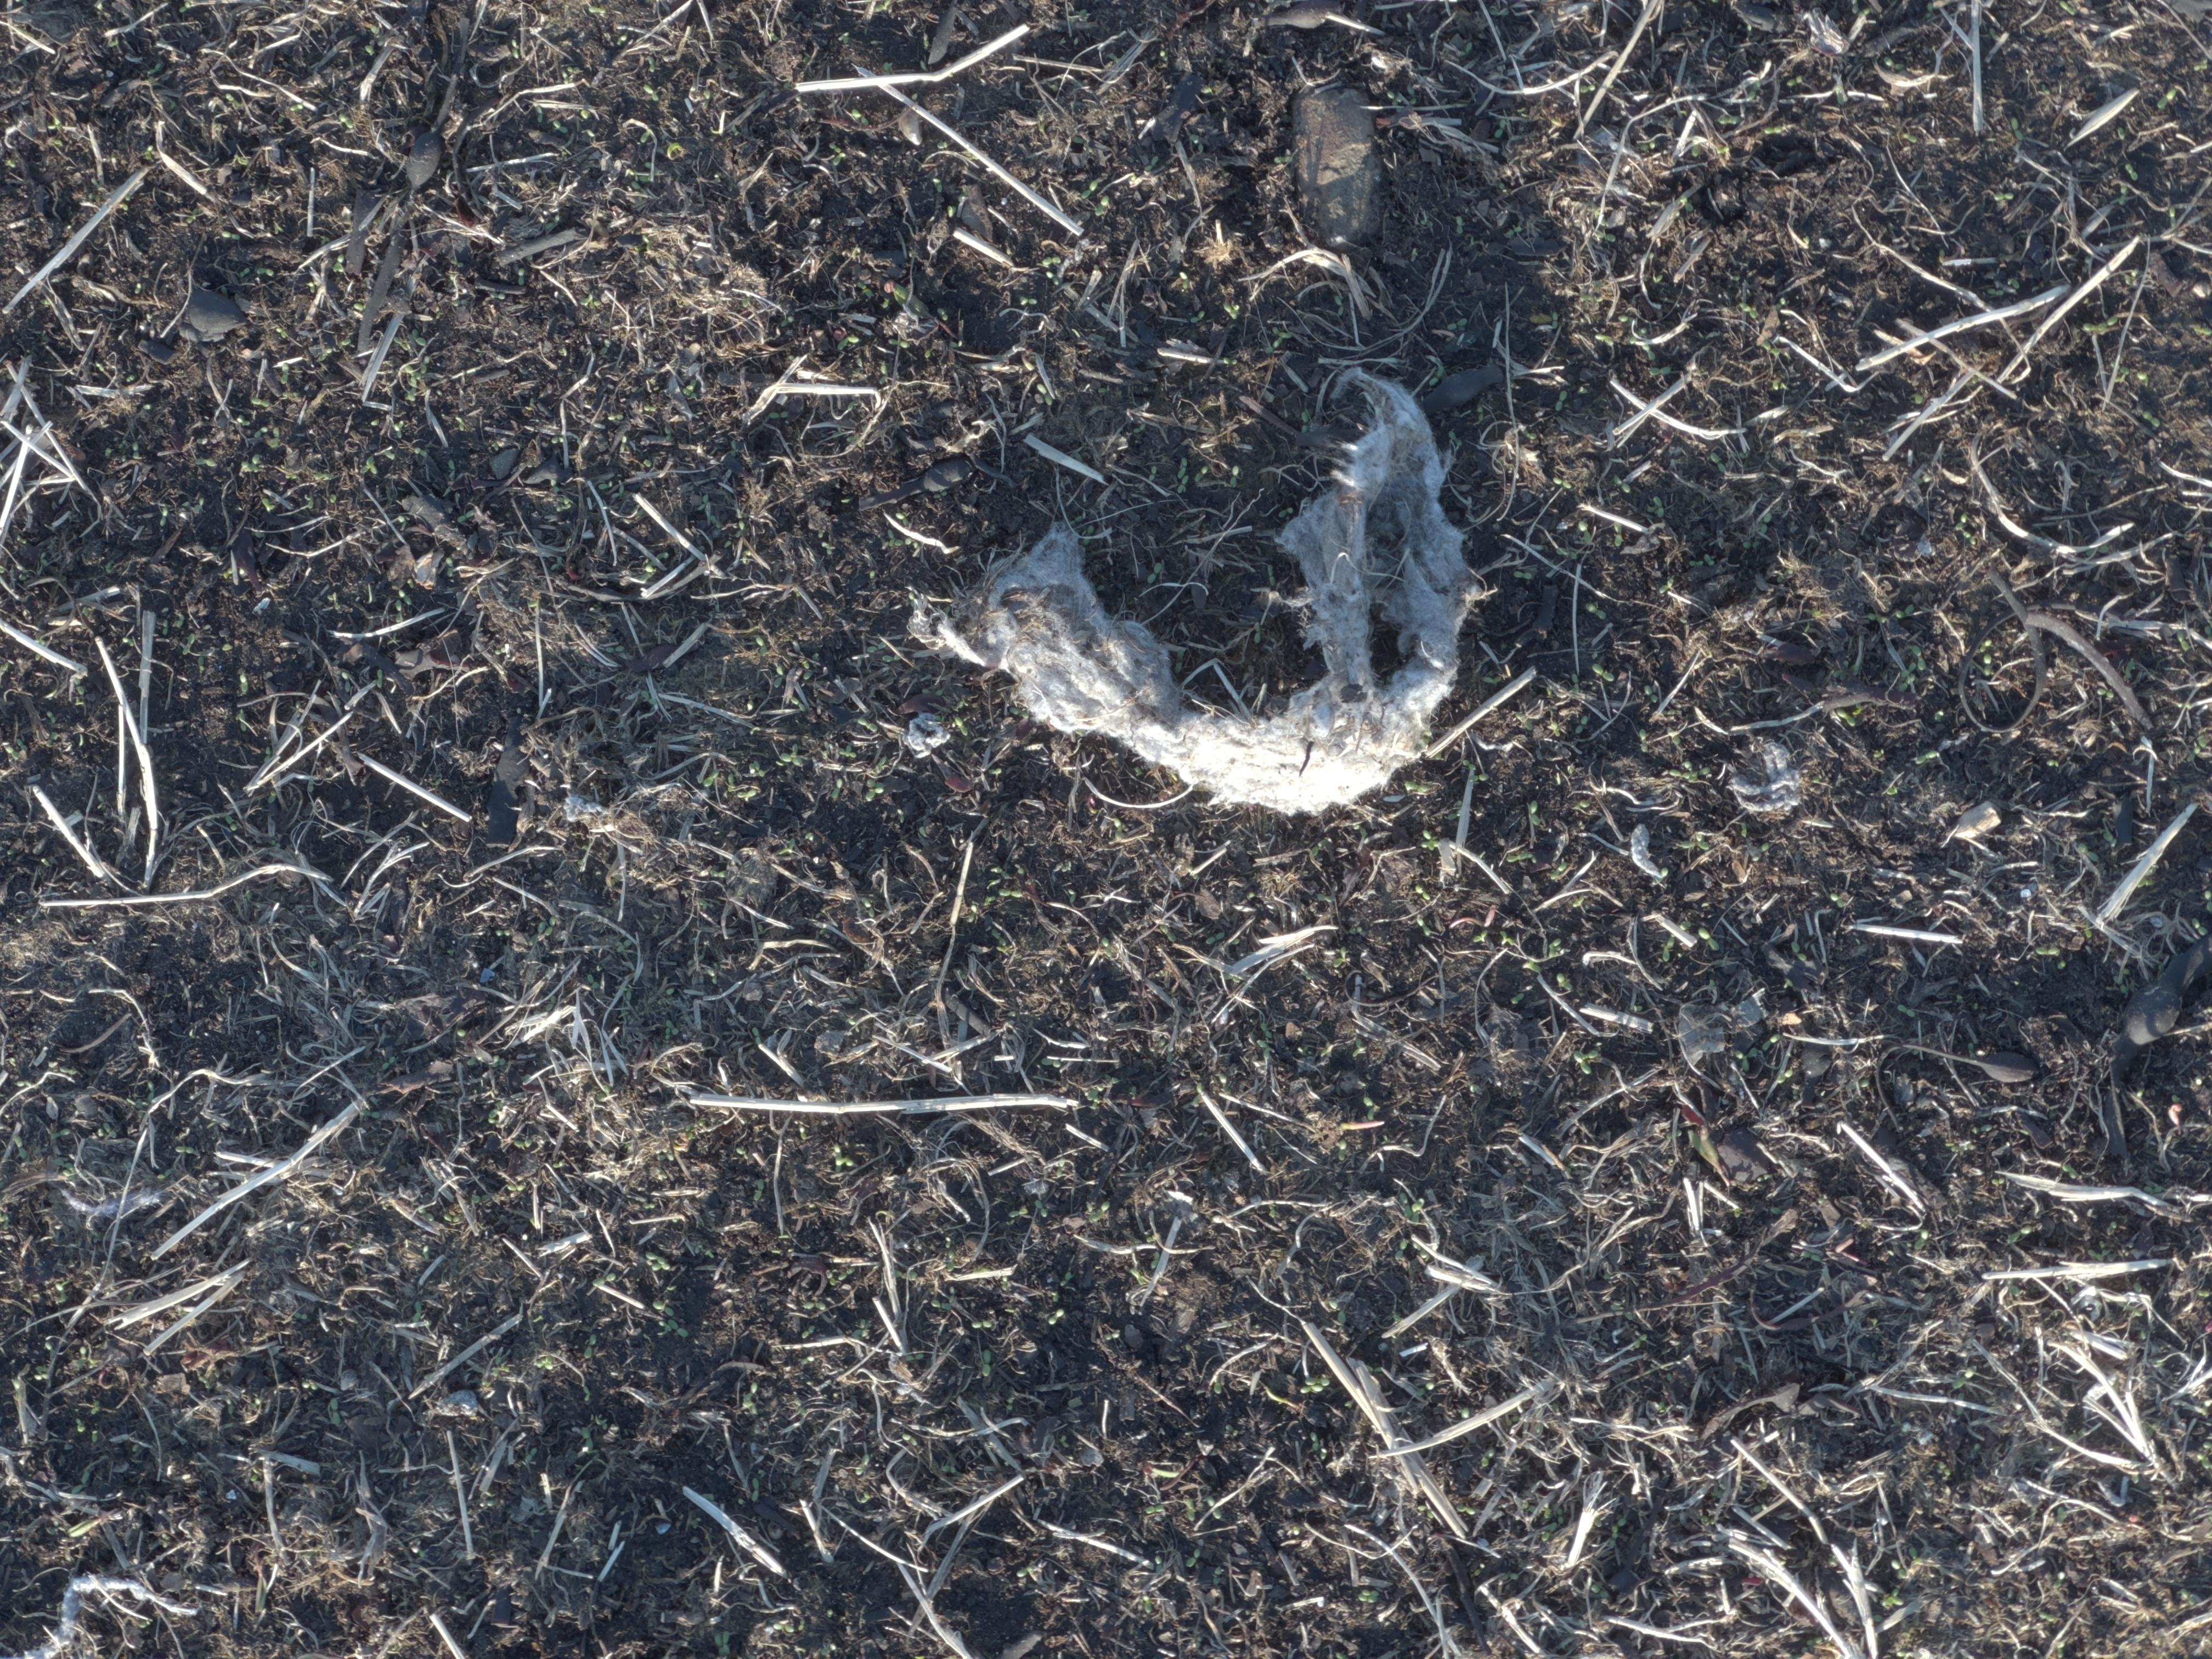trash: (912, 371, 1477, 812)
